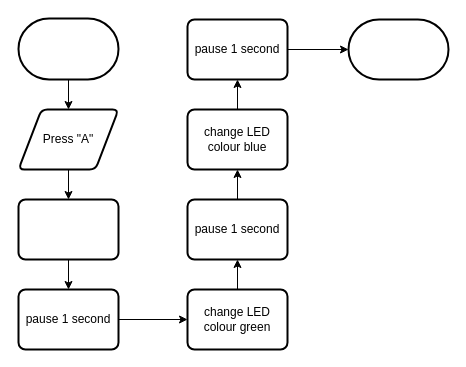
Image size: 466x367. Some labels were removed from this diagram. Each missing label, with the box of its shape:
change LED colour red: (17, 198, 119, 260)
Start: (17, 17, 119, 80)
Stop: (347, 18, 449, 80)
